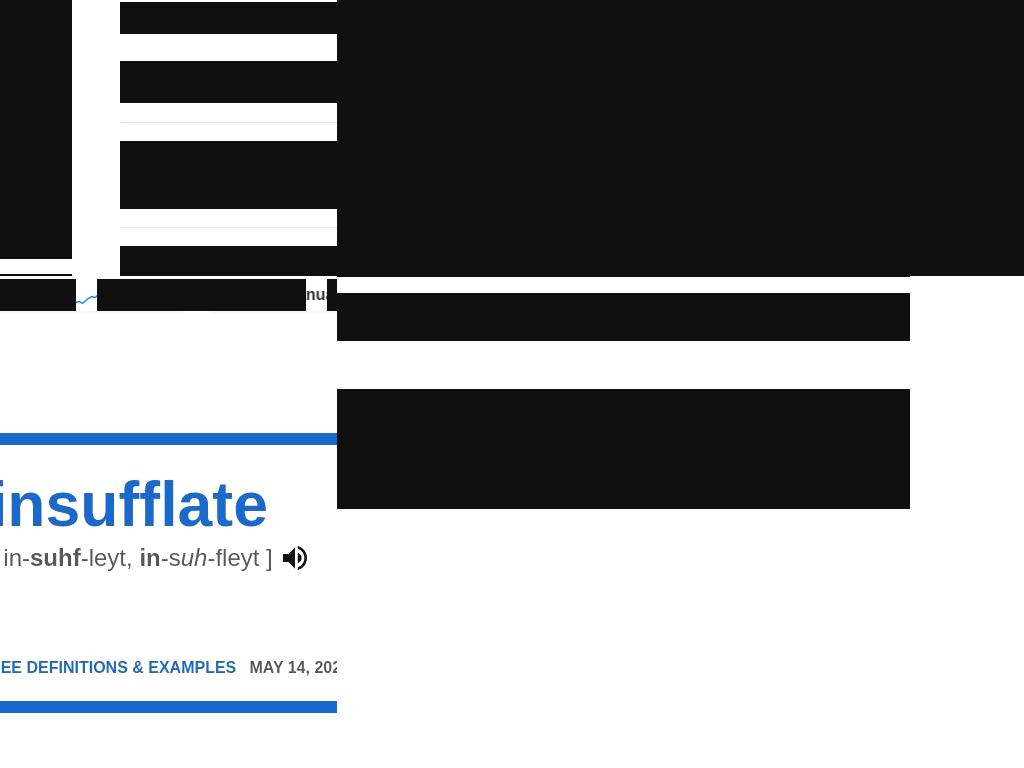button: (337, 389, 910, 509), (0, 0, 72, 259), (97, 279, 306, 311), (0, 659, 250, 677), (0, 279, 76, 311)
heading: (337, 177, 812, 276), (120, 2, 337, 34)
iframe: (0, 327, 337, 417)
image: (337, 0, 1024, 276), (492, 389, 712, 502), (0, 0, 72, 259), (183, 286, 230, 305), (282, 546, 307, 571)
link: (173, 61, 215, 79)
text: (337, 293, 910, 341), (0, 469, 268, 539), (120, 141, 337, 209), (249, 573, 337, 677), (120, 61, 337, 103), (120, 246, 337, 276), (0, 659, 132, 676), (207, 544, 274, 571), (132, 659, 237, 676), (80, 544, 139, 571), (114, 283, 176, 307), (30, 544, 82, 571), (120, 61, 174, 79), (6, 287, 59, 303), (237, 287, 290, 303), (0, 544, 30, 571), (180, 544, 207, 571), (139, 544, 162, 571), (160, 544, 181, 571)
